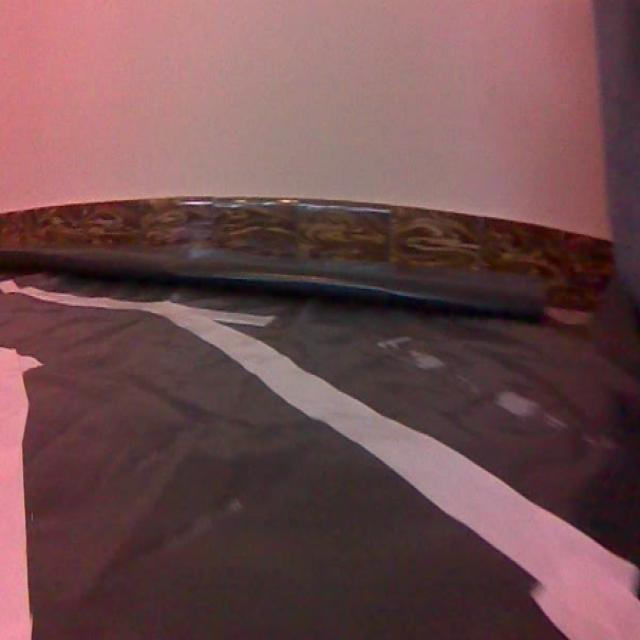LineaCarril: (0, 281, 640, 640), (0, 346, 41, 640)
